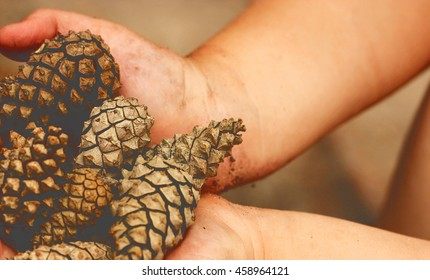Pc: (0, 29, 124, 127), (116, 157, 198, 258), (135, 116, 251, 181), (31, 164, 113, 250), (73, 98, 151, 171)
